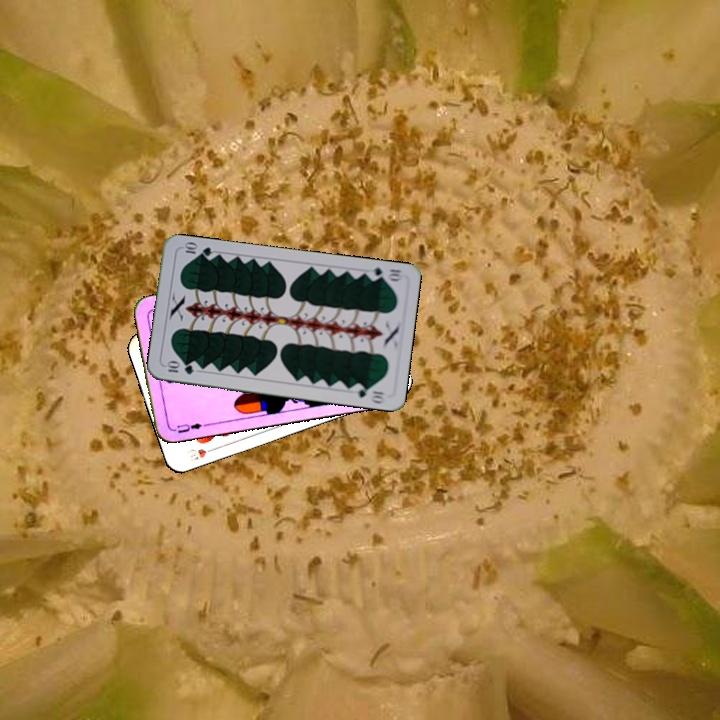EU: (168, 419, 209, 436)
G10: (363, 263, 404, 284), (162, 358, 197, 377)
H10: (183, 443, 219, 463)
